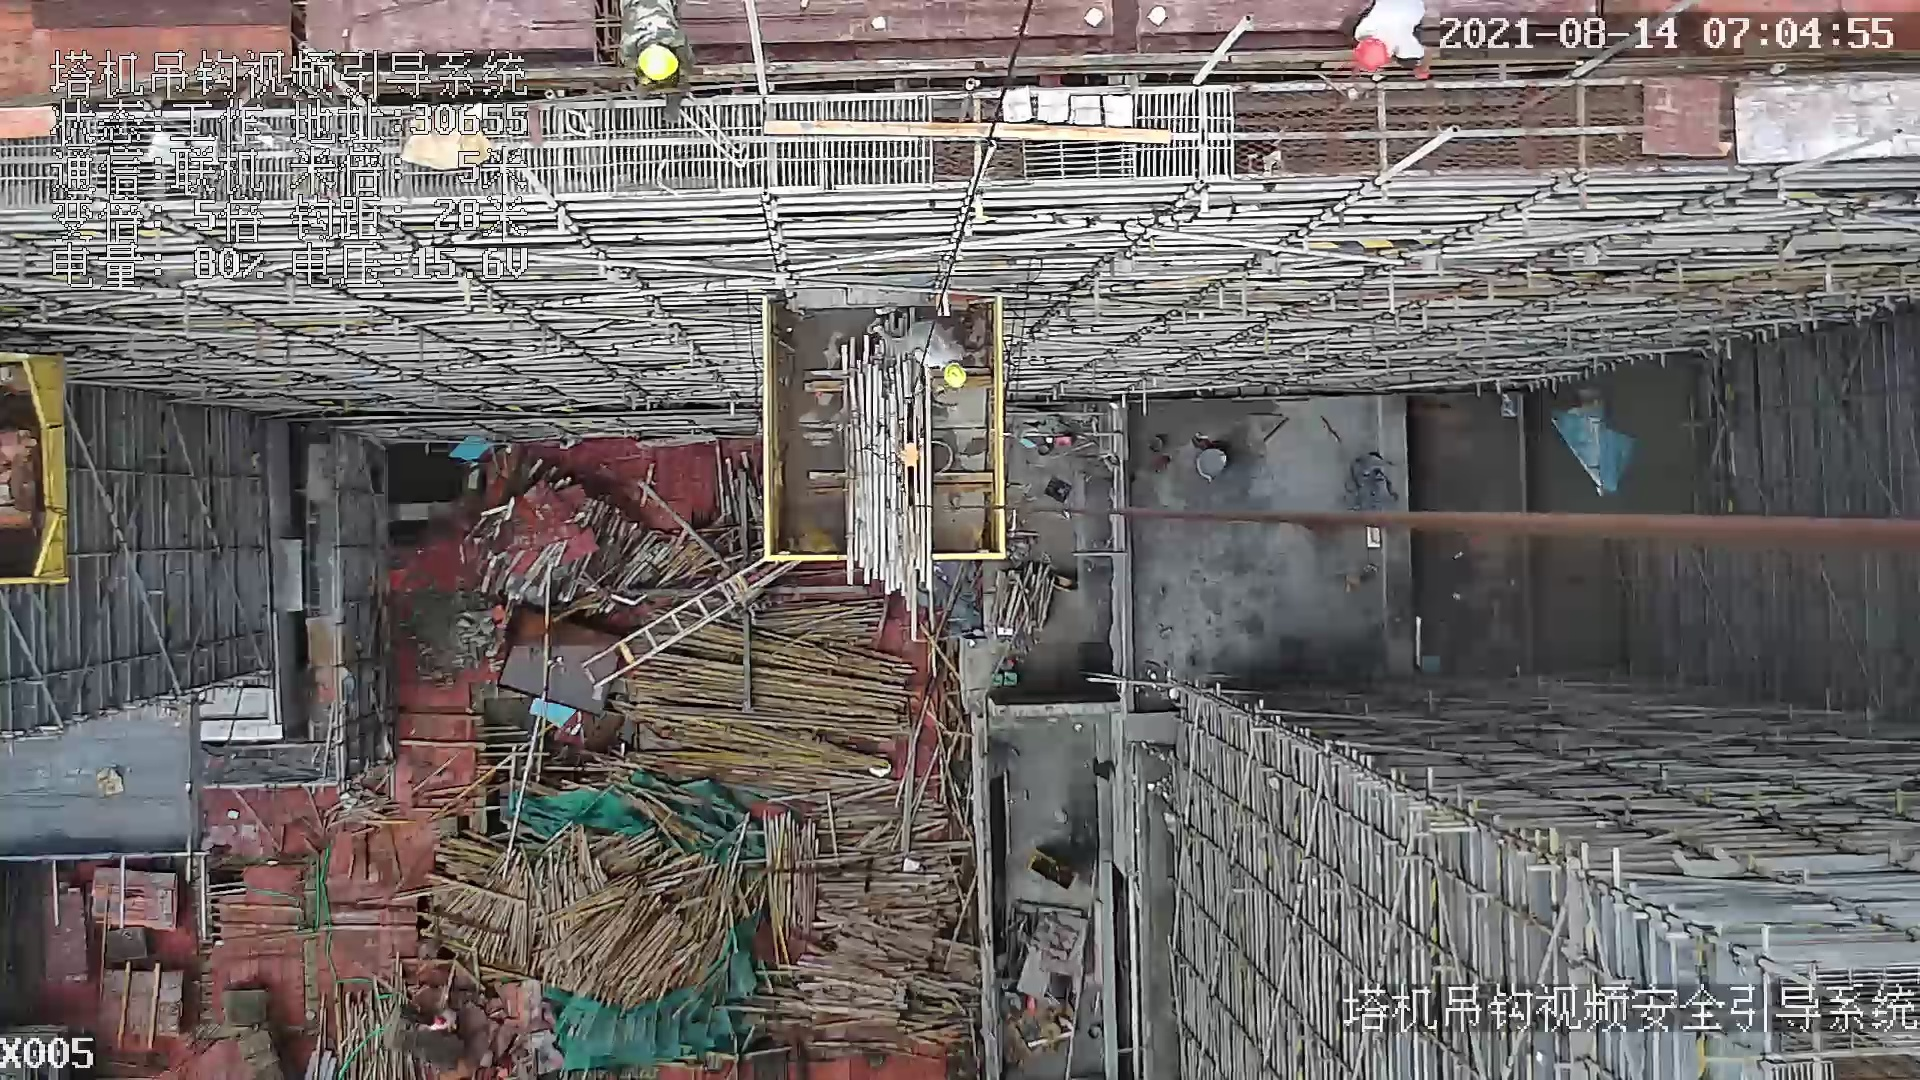helmet: (633, 44, 681, 83), (1355, 40, 1389, 76), (943, 361, 967, 388)
hook: (881, 405, 929, 513)
person: (601, 1, 705, 130), (1346, 1, 1439, 90), (878, 310, 968, 387)
